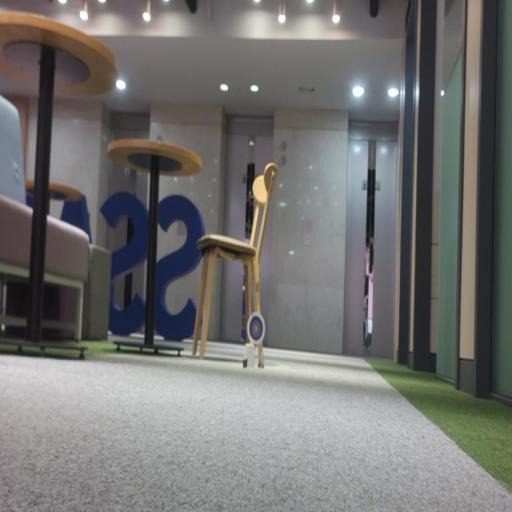target: (247, 311, 265, 347)
